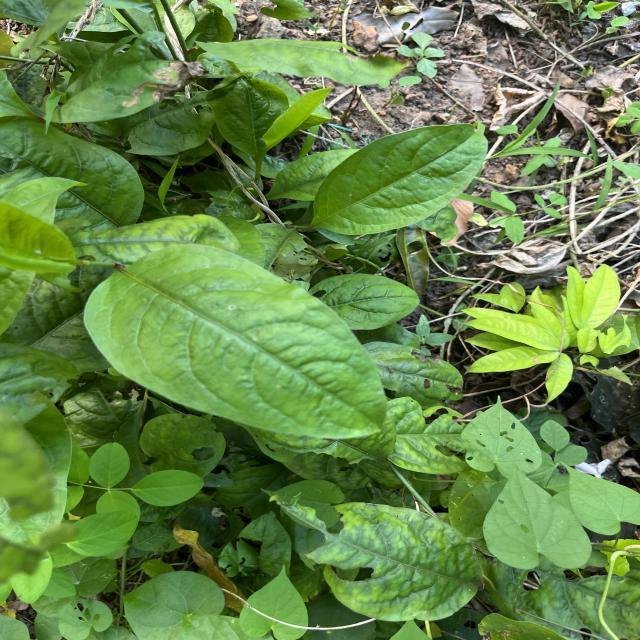Plumbago indica: (83, 236, 394, 444), (312, 498, 494, 627), (312, 118, 494, 242)
